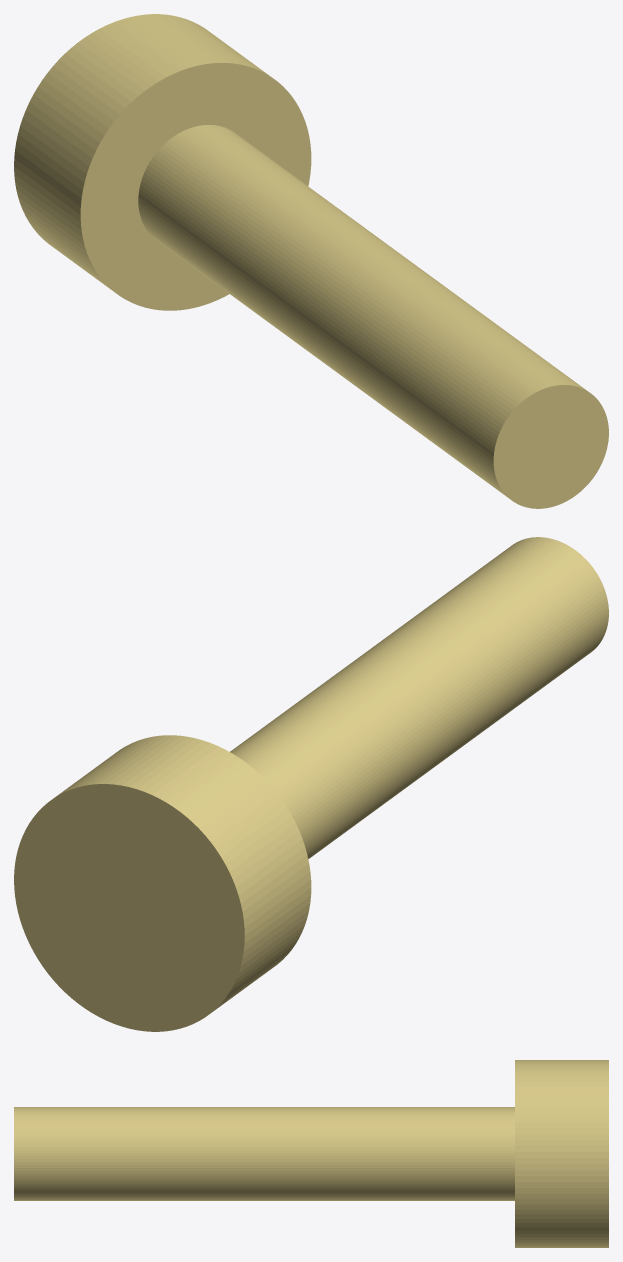
File: bolt_mesh_demo.glb
The picture shows the model from 3 angles, top to bottom: view 1: azimuth 30°, elevation 25°; view 2: azimuth 150°, elevation 25°; view 3: azimuth 270°, elevation 25°; orthographic projection. The views are drawn at different scales.
Visible parts, largest first — view 1: bolt; view 2: bolt; view 3: bolt.
Part boxes in pixels (x1,y1,x2,y2): bolt: [14, 14, 608, 508]; bolt: [14, 537, 608, 1031]; bolt: [14, 1060, 608, 1247].
Bounding box in the file's own units: 6 × 6 × 19.
